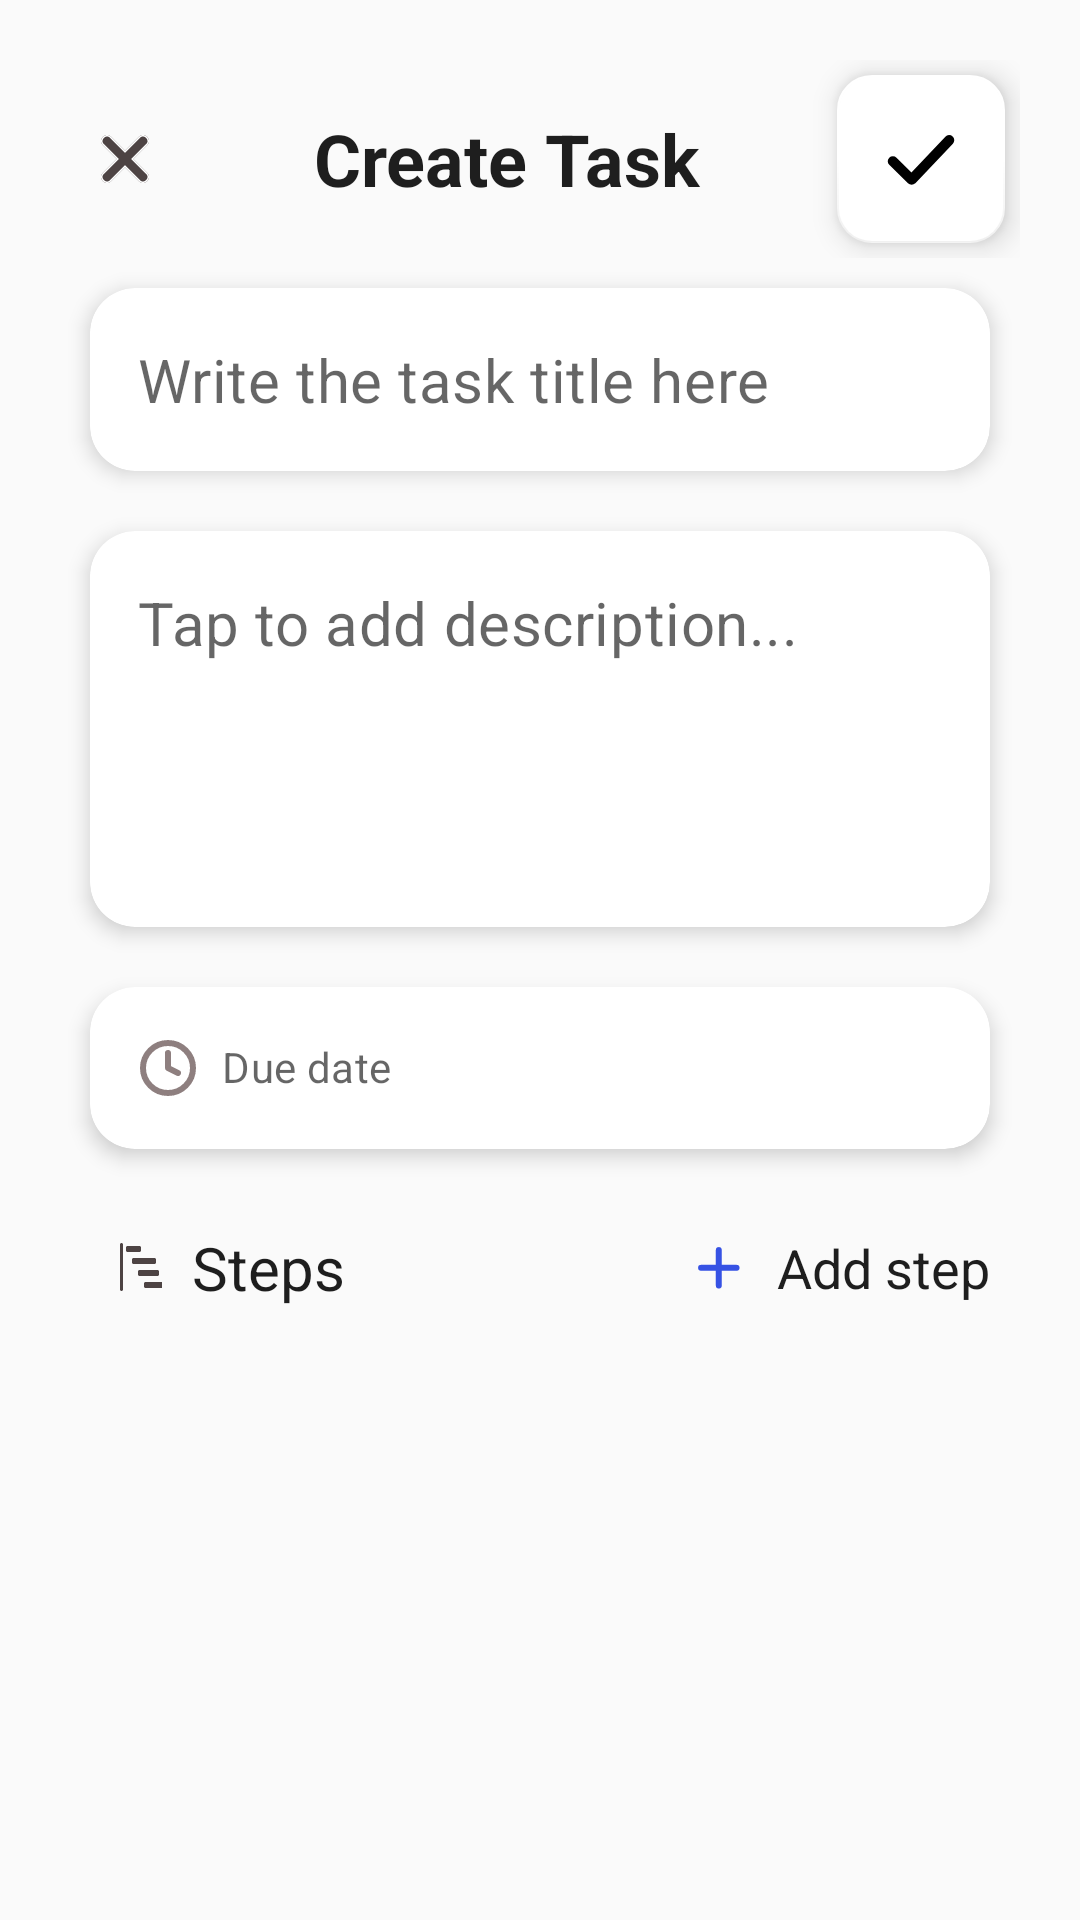

Icon bounding boxes for this 1080×1920 phone screenshot, format (x1, y1, x2, y2):
cancel: (101, 135, 149, 183)
check: (837, 75, 1005, 243)
plus: (698, 1247, 740, 1289)
